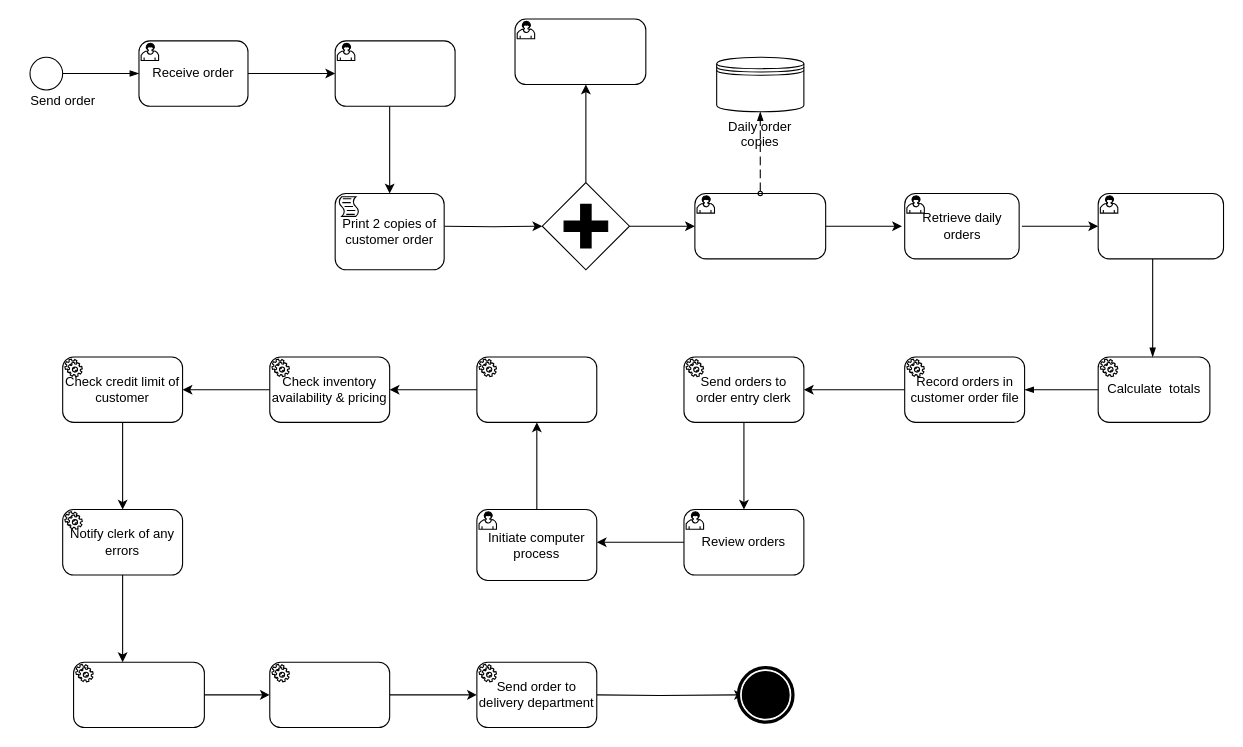
This 1243x747 diagram has some shape labels left out. Each missing label, with the centre of its shape:
"Customer order copy" belongs at (580,51).
"Enter customer order" belongs at (394,73).
"File customer order copy" belongs at (760,225).
"Inventory balanced is reduced" belongs at (329,694).
"Record orders in sales order master file" belongs at (138,694).
"Send daily order to HQ" belongs at (1160,225).
"Validate customer name & address" belongs at (536,389).
